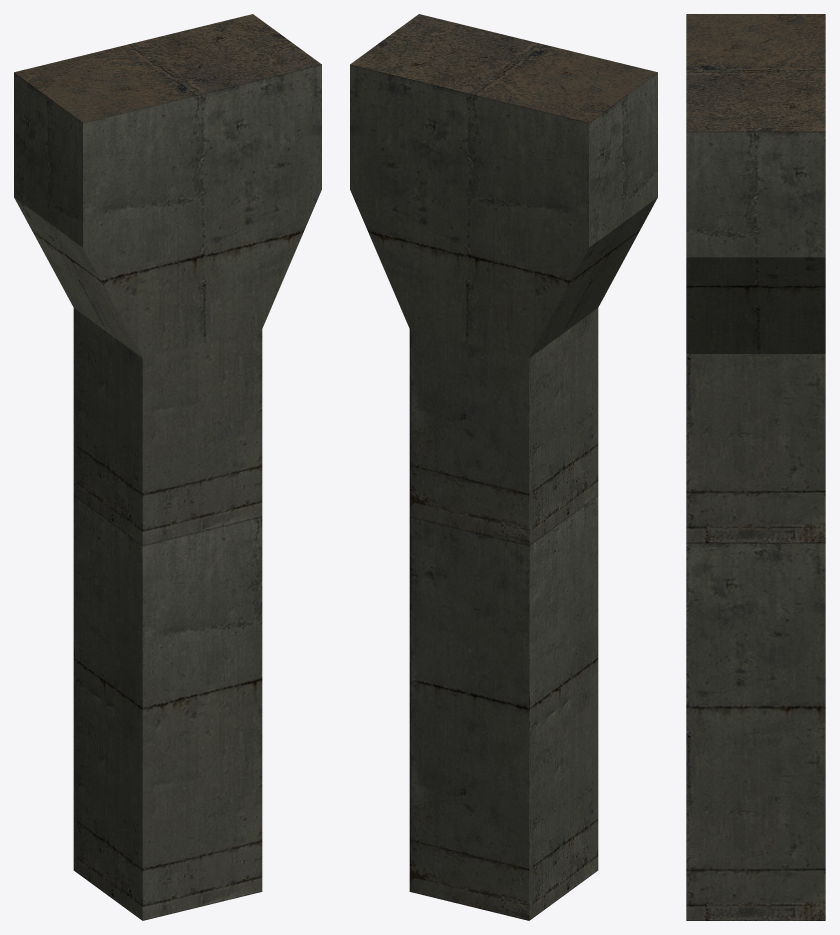
File: pillar_rg_7.obj
3 renders of one model, left to right at view 1: azimuth 30°, elevation 25°; view 2: azimuth 150°, elevation 25°; view 3: azimuth 270°, elevation 25°, orthographic.
Visible parts, largest first — view 1: pillar_rg_7; view 2: pillar_rg_7; view 3: pillar_rg_7.
Part boxes in pixels (<box>): pillar_rg_7: <box>14,14,321,920</box>; pillar_rg_7: <box>350,14,657,920</box>; pillar_rg_7: <box>686,14,825,920</box>.
Size of the model in its own units: 2 by 6.5 by 1.
